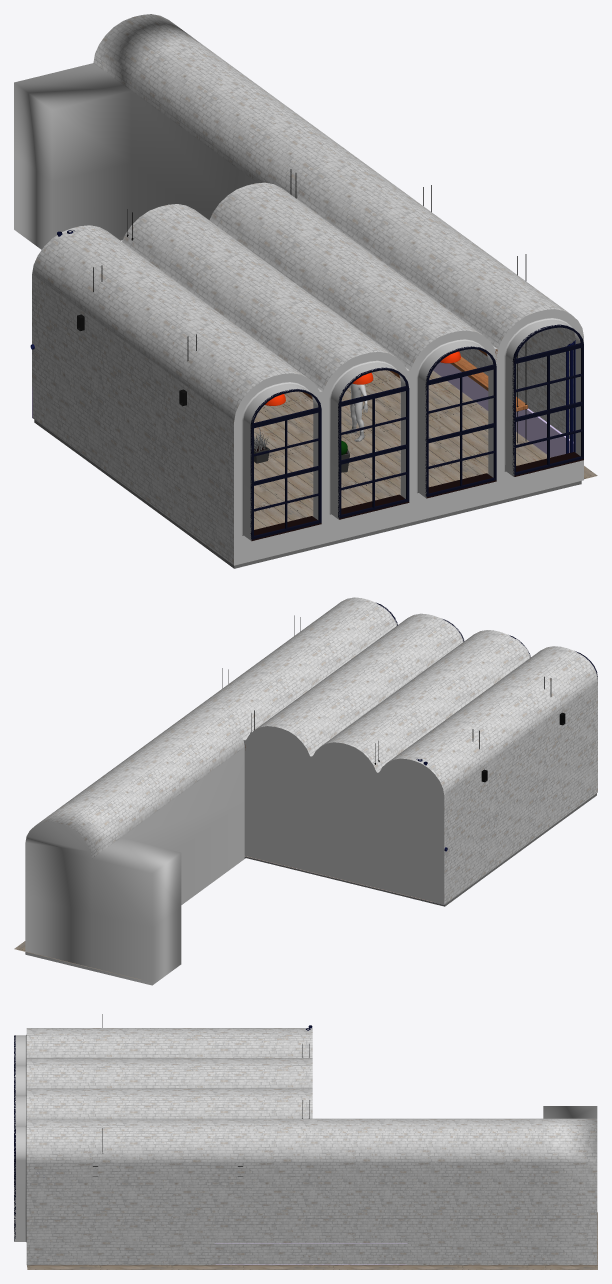
File: TestShadows.FBX
3 views of the same model, one above another, from view 1: azimuth 30°, elevation 25°; view 2: azimuth 150°, elevation 25°; view 3: azimuth 270°, elevation 25° (orthographic). The views are drawn at different scales.
Visible parts, largest first — view 1: wall, windowwall (2), floor, window_ (4), window_ (3), window_ (2), window_, BASEBOARD, windowsill, lowerpanel (2); view 2: wall, wall (2), BASEBOARD; view 3: wall, floor, windowwall (2), lowerpanel (2).
Boxes of the visible parts, left/top/right/bottom form: wall: left=14, top=14, right=575, bottom=565; windowwall (2): left=234, top=309, right=583, bottom=565; floor: left=254, top=370, right=597, bottom=529; window_ (4): left=250, top=389, right=321, bottom=539; window_ (3): left=338, top=367, right=409, bottom=518; window_ (2): left=425, top=346, right=496, bottom=496; window_: left=512, top=324, right=583, bottom=475; BASEBOARD: left=14, top=226, right=581, bottom=568; windowsill: left=251, top=452, right=583, bottom=540; lowerpanel (2): left=433, top=362, right=573, bottom=457; wall: left=25, top=597, right=597, bottom=982; wall (2): left=243, top=726, right=444, bottom=904; BASEBOARD: left=25, top=793, right=596, bottom=985; wall: left=26, top=1028, right=597, bottom=1264; floor: left=27, top=1212, right=597, bottom=1269; windowwall (2): left=14, top=1035, right=26, bottom=1242; lowerpanel (2): left=215, top=1243, right=407, bottom=1264.
Size of the model in its own units: 10.54 by 5.25 by 20.42.
